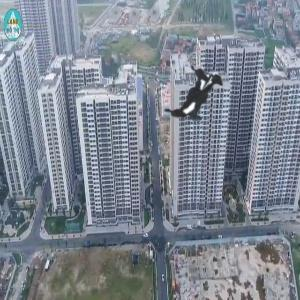drone: (109, 5, 289, 185)
